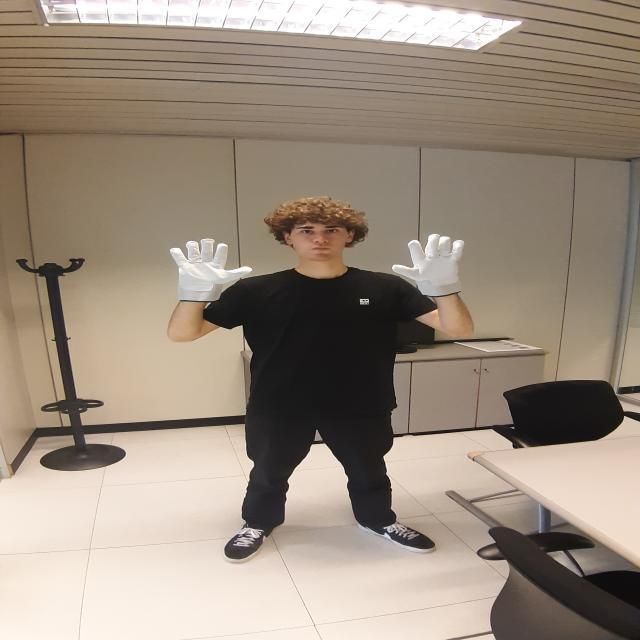gloved_hand: (392, 235, 471, 301), (171, 239, 251, 303)
